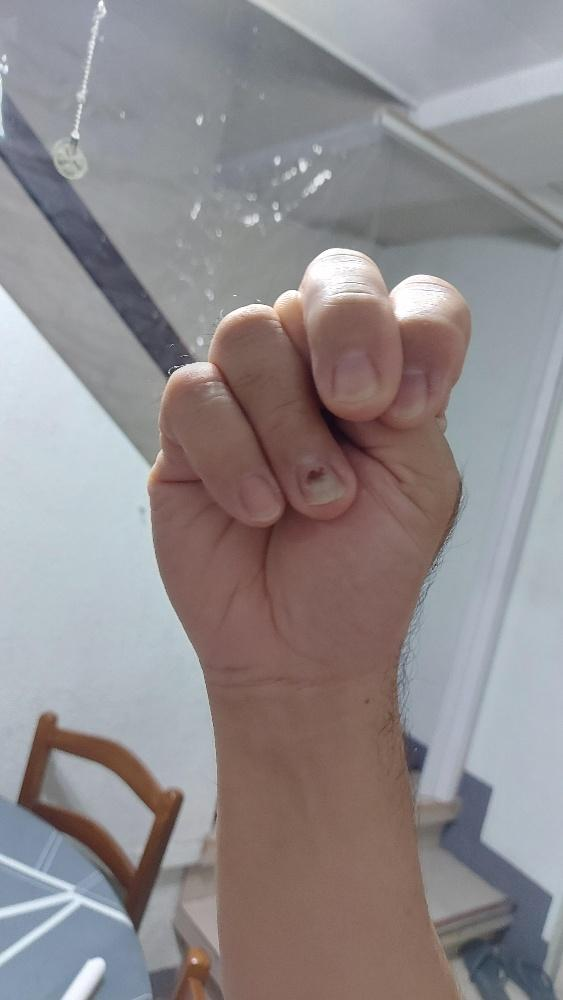n: (144, 246, 472, 684)
